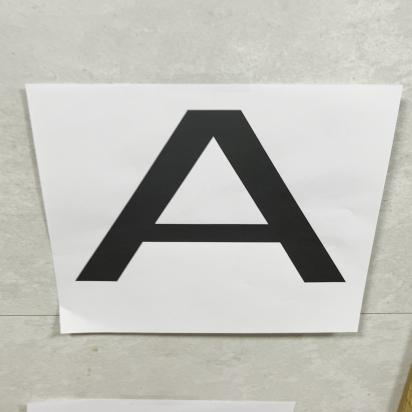seat: (60, 94, 363, 318)
